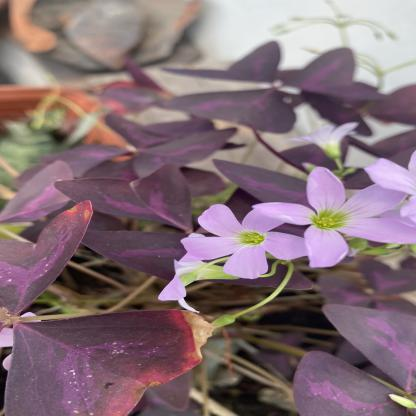Kupu-Kupu: (1, 252, 215, 403), (148, 65, 355, 121), (304, 301, 416, 401), (55, 122, 235, 181)
